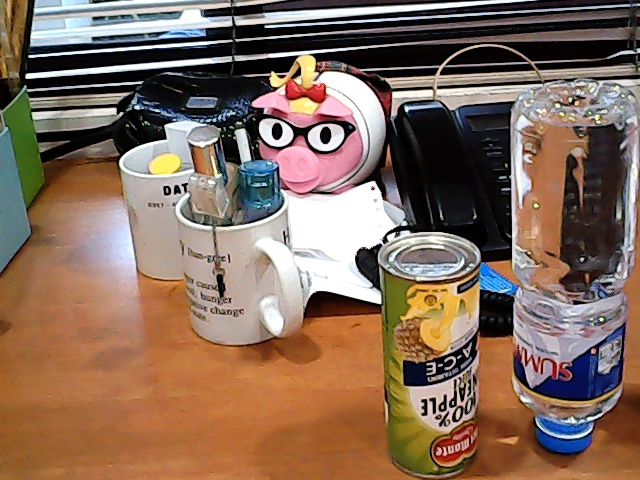Pine Juice: (359, 221, 494, 480)
Summit Water: (504, 67, 640, 458)
